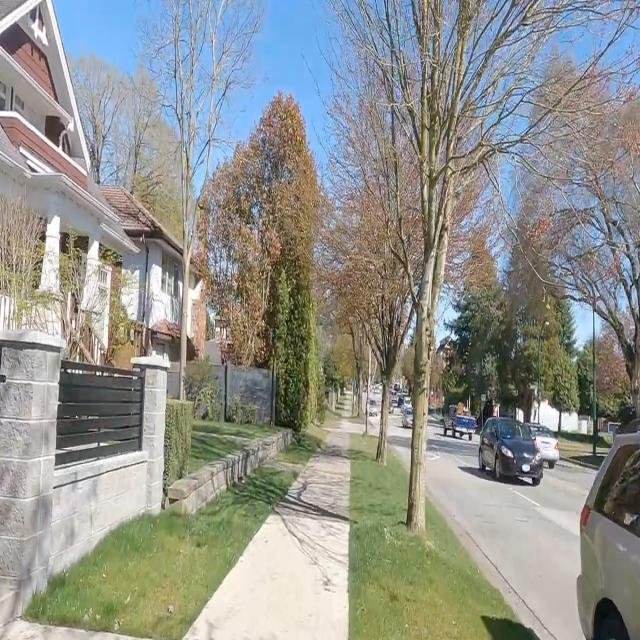Automobile: (576, 430, 639, 639), (479, 419, 543, 486), (530, 423, 559, 468), (443, 403, 475, 439)
Road: (428, 425, 593, 639), (428, 427, 593, 639), (390, 428, 409, 469)
Sidewalk: (183, 420, 358, 639), (187, 455, 349, 639)
